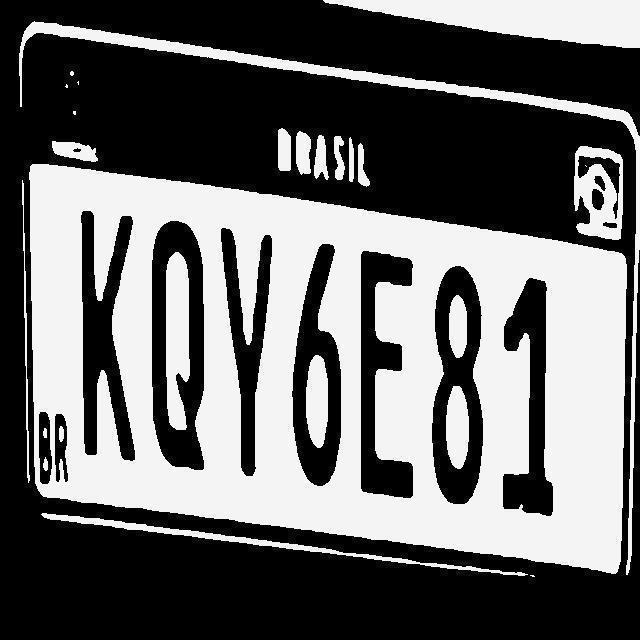1: (493, 264, 565, 534)
6: (289, 225, 353, 503)
8: (426, 238, 489, 512)
e: (353, 230, 422, 508)
k: (74, 204, 138, 467)
q: (144, 214, 212, 476)
y: (215, 210, 278, 493)
